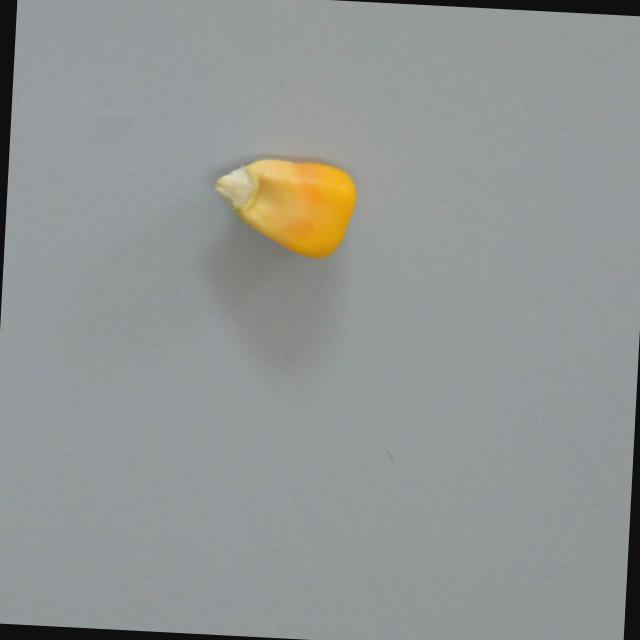entero: (205, 150, 370, 268)
